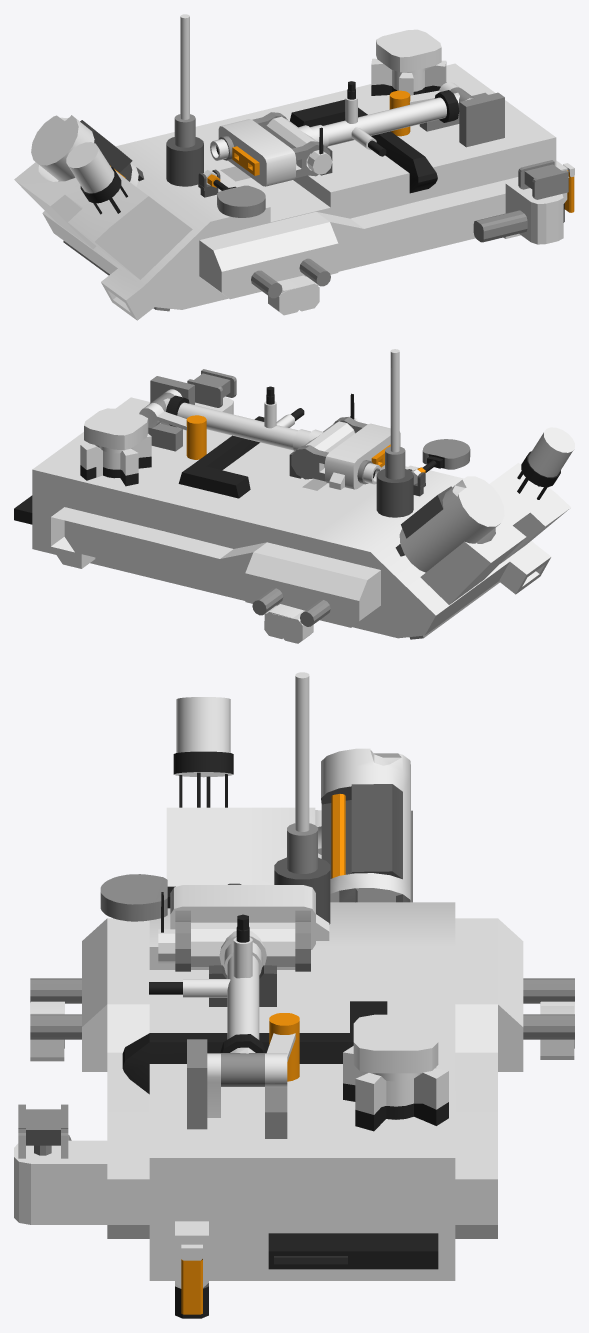
Rendered from Cuerpo.obj.
3 renders of one model, top to bottom at view 1: azimuth 30°, elevation 25°; view 2: azimuth 150°, elevation 25°; view 3: azimuth 270°, elevation 25°, orthographic. The views are drawn at different scales.
Visible parts, largest first — view 1: RoverModificado; view 2: RoverModificado; view 3: RoverModificado.
Part boxes in pixels (bbox=[...]): RoverModificado: bbox=[14, 14, 574, 320]; RoverModificado: bbox=[14, 349, 574, 643]; RoverModificado: bbox=[14, 672, 574, 1318].
Size of the model in its own units: 10.27 by 5.1 by 6.61.
